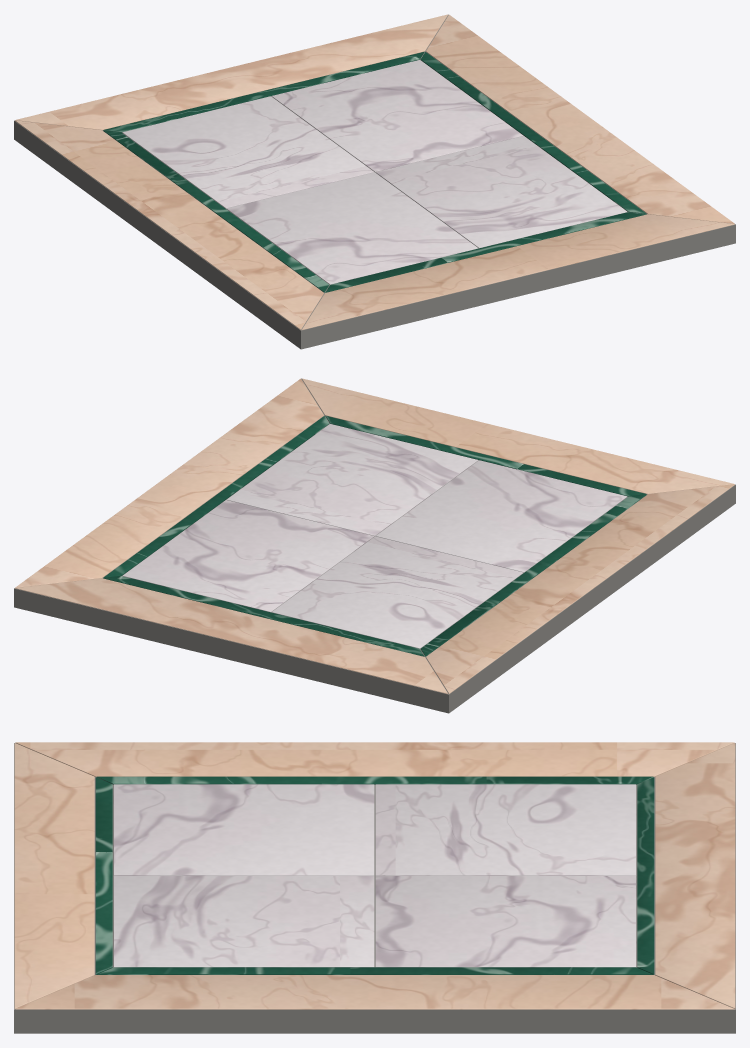
Rendered from floor_KA-DB012.glb.
3 renders of one model, top to bottom at view 1: azimuth 30°, elevation 25°; view 2: azimuth 150°, elevation 25°; view 3: azimuth 270°, elevation 25°, orthographic. The views are drawn at different scales.
Visible parts, largest first — view 1: Floor; view 2: Floor; view 3: Floor.
Boxes of the visible parts, <box> form: Floor: <box>14,14,735,349</box>; Floor: <box>14,378,735,713</box>; Floor: <box>14,742,735,1033</box>.
Bounding box in the file's own units: 1.4 × 0.06 × 1.6.
4 materials, 3 textured.
